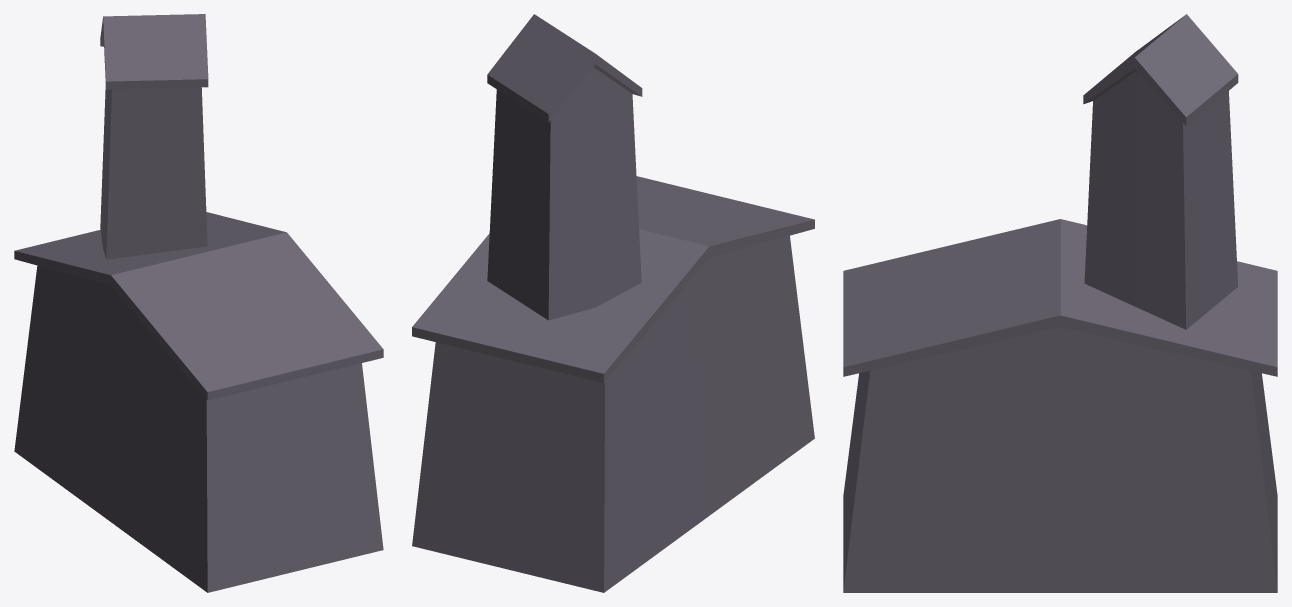
File: casa 2.fbx
3 views of the same model, side by side, from view 1: azimuth 30°, elevation 25°; view 2: azimuth 150°, elevation 25°; view 3: azimuth 270°, elevation 25° (orthographic). The views are drawn at different scales.
Parts seen in each view (by area): view 1: casa 2; view 2: casa 2; view 3: casa 2.
Part boxes in pixels (bbox=[...]): casa 2: bbox=[14, 14, 383, 592]; casa 2: bbox=[412, 14, 814, 592]; casa 2: bbox=[843, 14, 1277, 592].
Size of the model in its own units: 2087 by 5133 by 3970.
